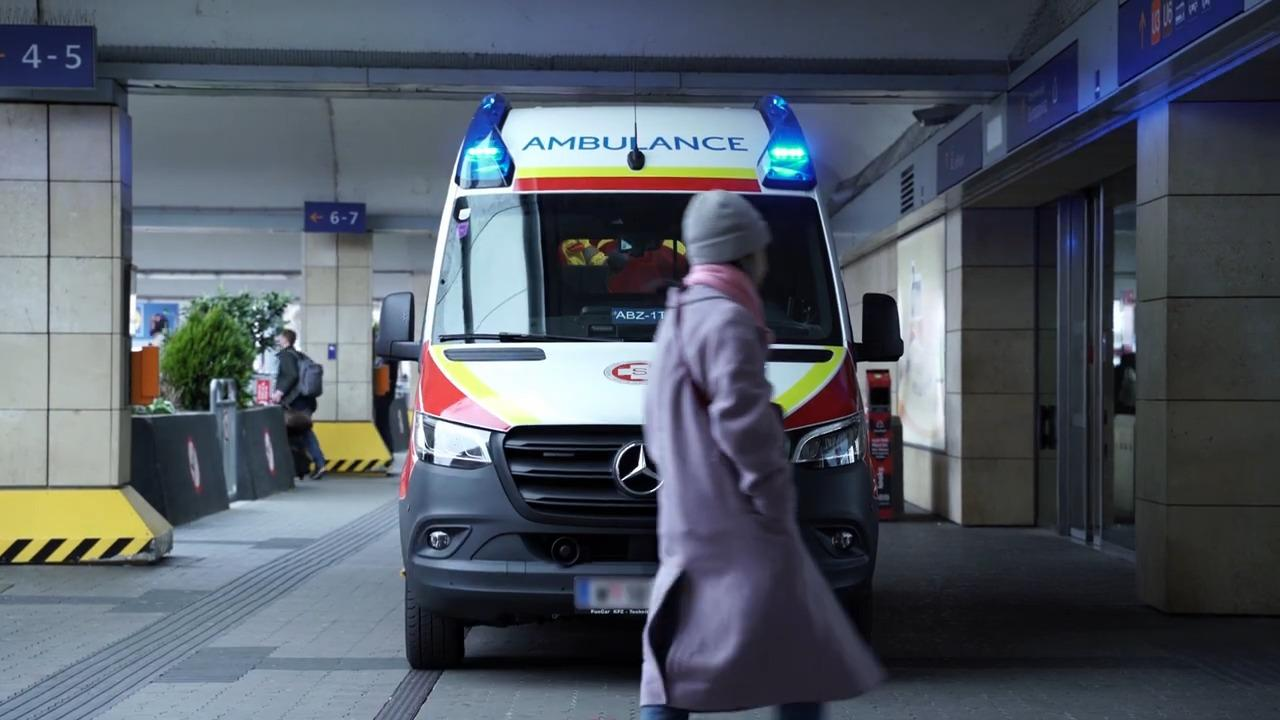car: (379, 89, 905, 670)
